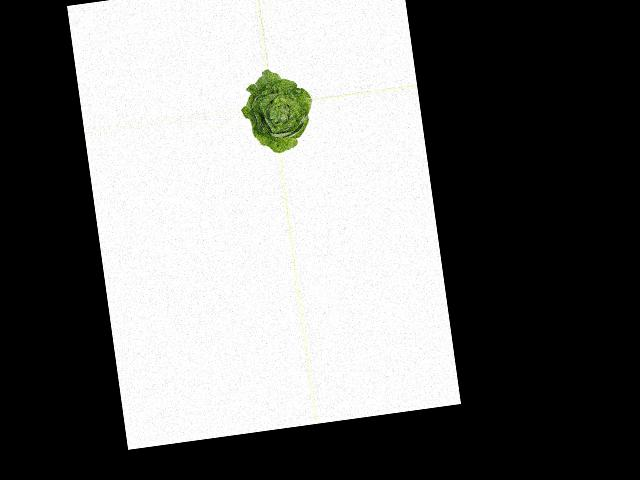lettuce: (236, 66, 317, 157)
